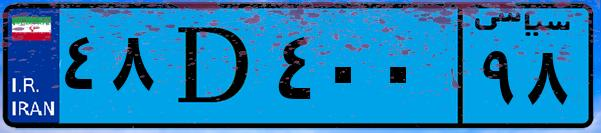0: (385, 28, 445, 110), (330, 28, 385, 110)
4: (270, 28, 330, 110), (57, 26, 110, 100)
8: (525, 38, 570, 115), (110, 28, 158, 98)
9: (475, 38, 525, 113)
D: (158, 12, 270, 120)
